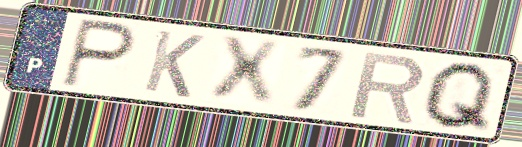7: (293, 44, 351, 115)
K: (140, 27, 208, 101)
P: (58, 16, 139, 92)
Q: (417, 59, 499, 136)
R: (347, 49, 428, 126)
X: (207, 34, 285, 109)
